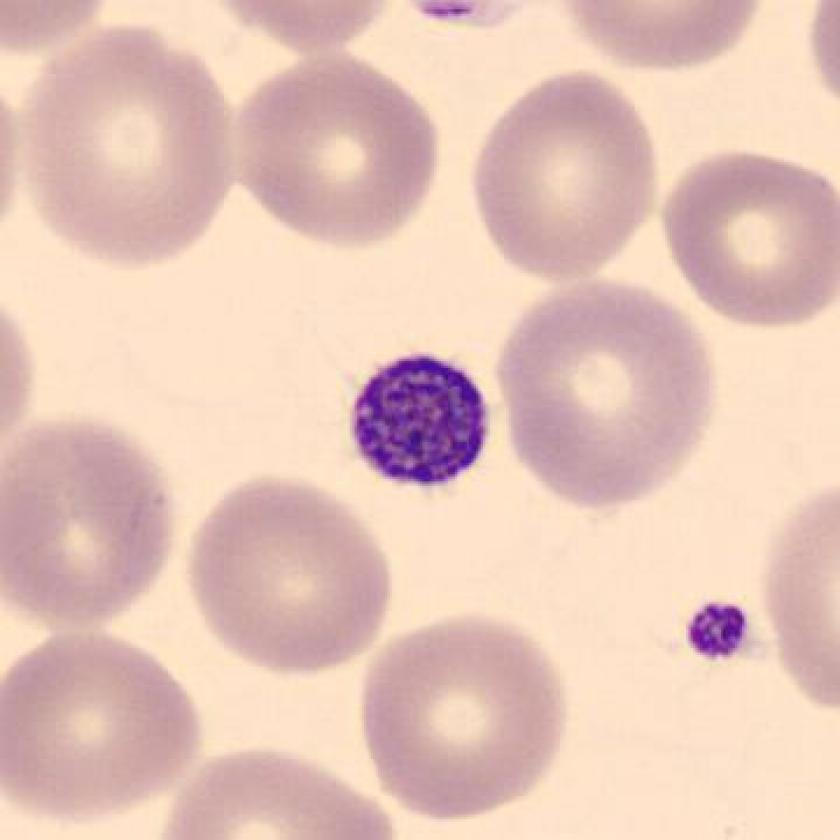platelets: (340, 344, 501, 499), (678, 589, 757, 672)
